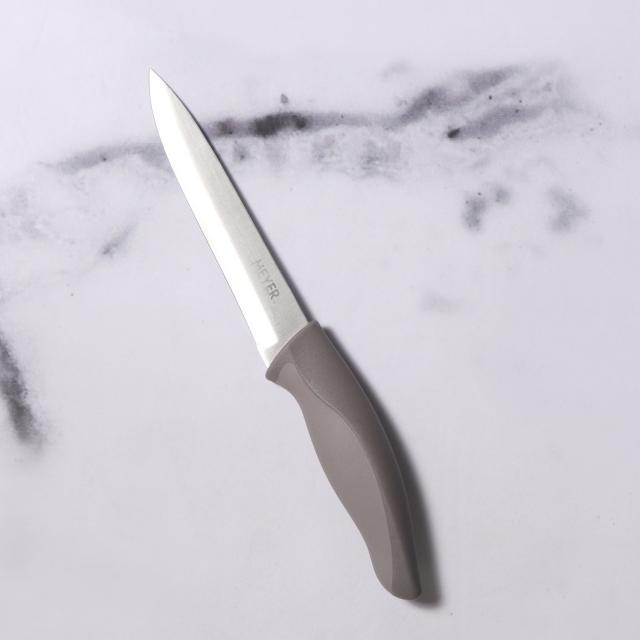knife: (117, 48, 474, 606)
